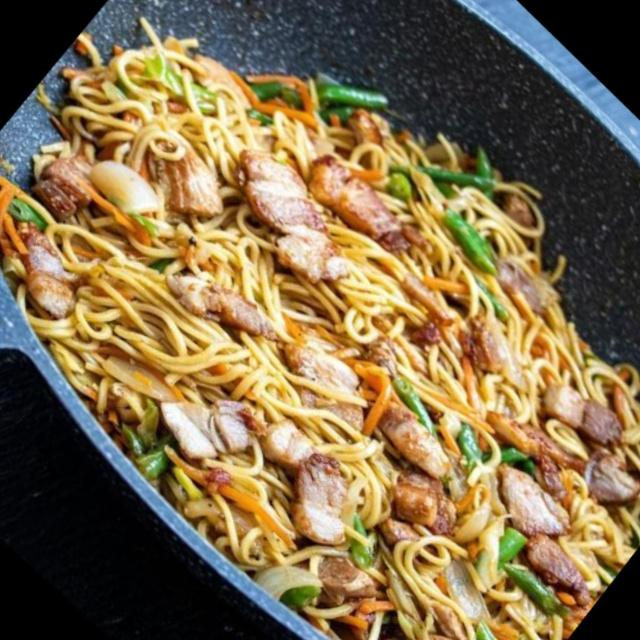pancit bihon: (12, 29, 639, 639)
